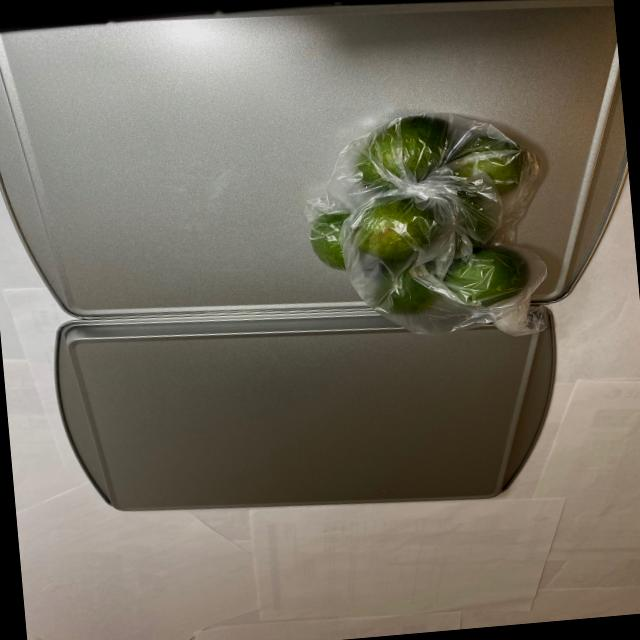lemon: (306, 105, 548, 326)
